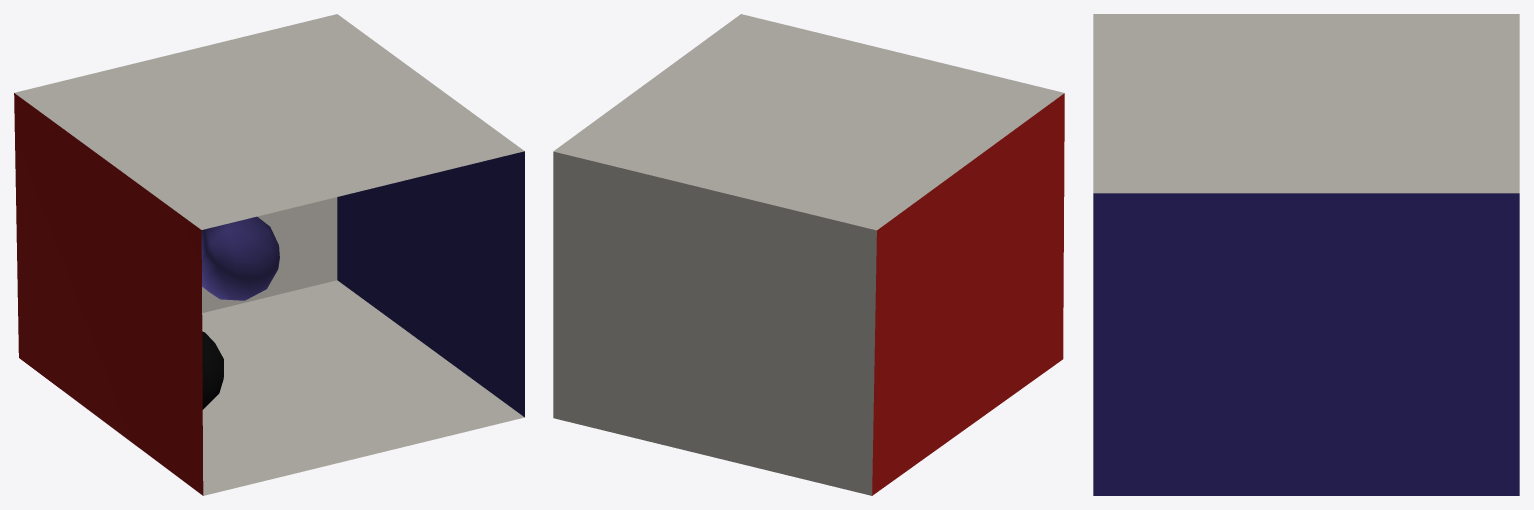
File: CornellBox-Sphere-317.obj
3 views of the same model, side by side, from view 1: azimuth 30°, elevation 25°; view 2: azimuth 150°, elevation 25°; view 3: azimuth 270°, elevation 25° (orthographic). The views are drawn at different scales.
Parts seen in each view (by area): view 1: ceiling, leftWall, floor, rightWall, backWall, leftSphere, rightSphere; view 2: backWall, ceiling, leftWall; view 3: rightWall, ceiling.
Part boxes in pixels (x1=…): ceiling: x1=14, y1=14, x2=524, y2=229; leftWall: x1=14, y1=93, x2=203, y2=495; floor: x1=202, y1=280, x2=524, y2=495; rightWall: x1=337, y1=151, x2=524, y2=417; backWall: x1=202, y1=197, x2=337, y2=312; leftSphere: x1=201, y1=216, x2=279, y2=300; rightSphere: x1=202, y1=331, x2=223, y2=409; backWall: x1=553, y1=151, x2=876, y2=495; ceiling: x1=553, y1=14, x2=1064, y2=230; leftWall: x1=872, y1=93, x2=1064, y2=495; rightWall: x1=1093, y1=193, x2=1519, y2=495; ceiling: x1=1093, y1=14, x2=1519, y2=193.
Size of the model in its own units: 2.02 by 1.59 by 2.03.
